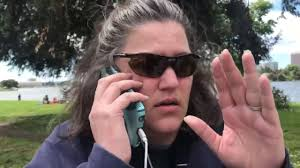white_female: (90, 21, 210, 149)
